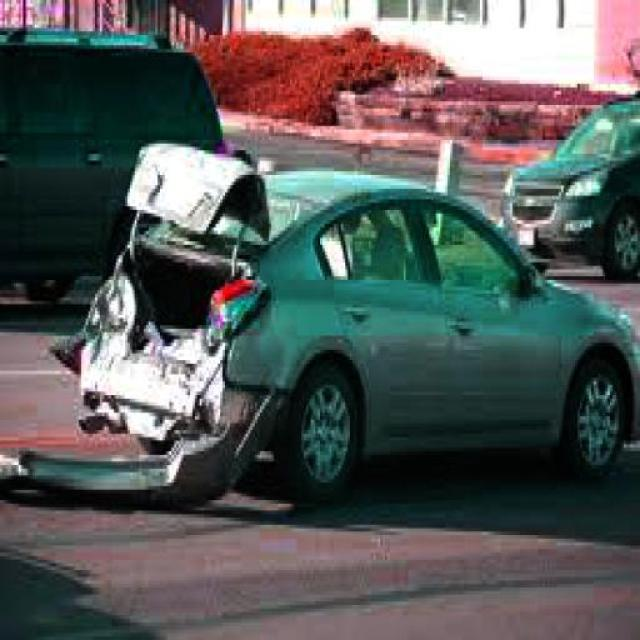car damage: (3, 145, 325, 504)
